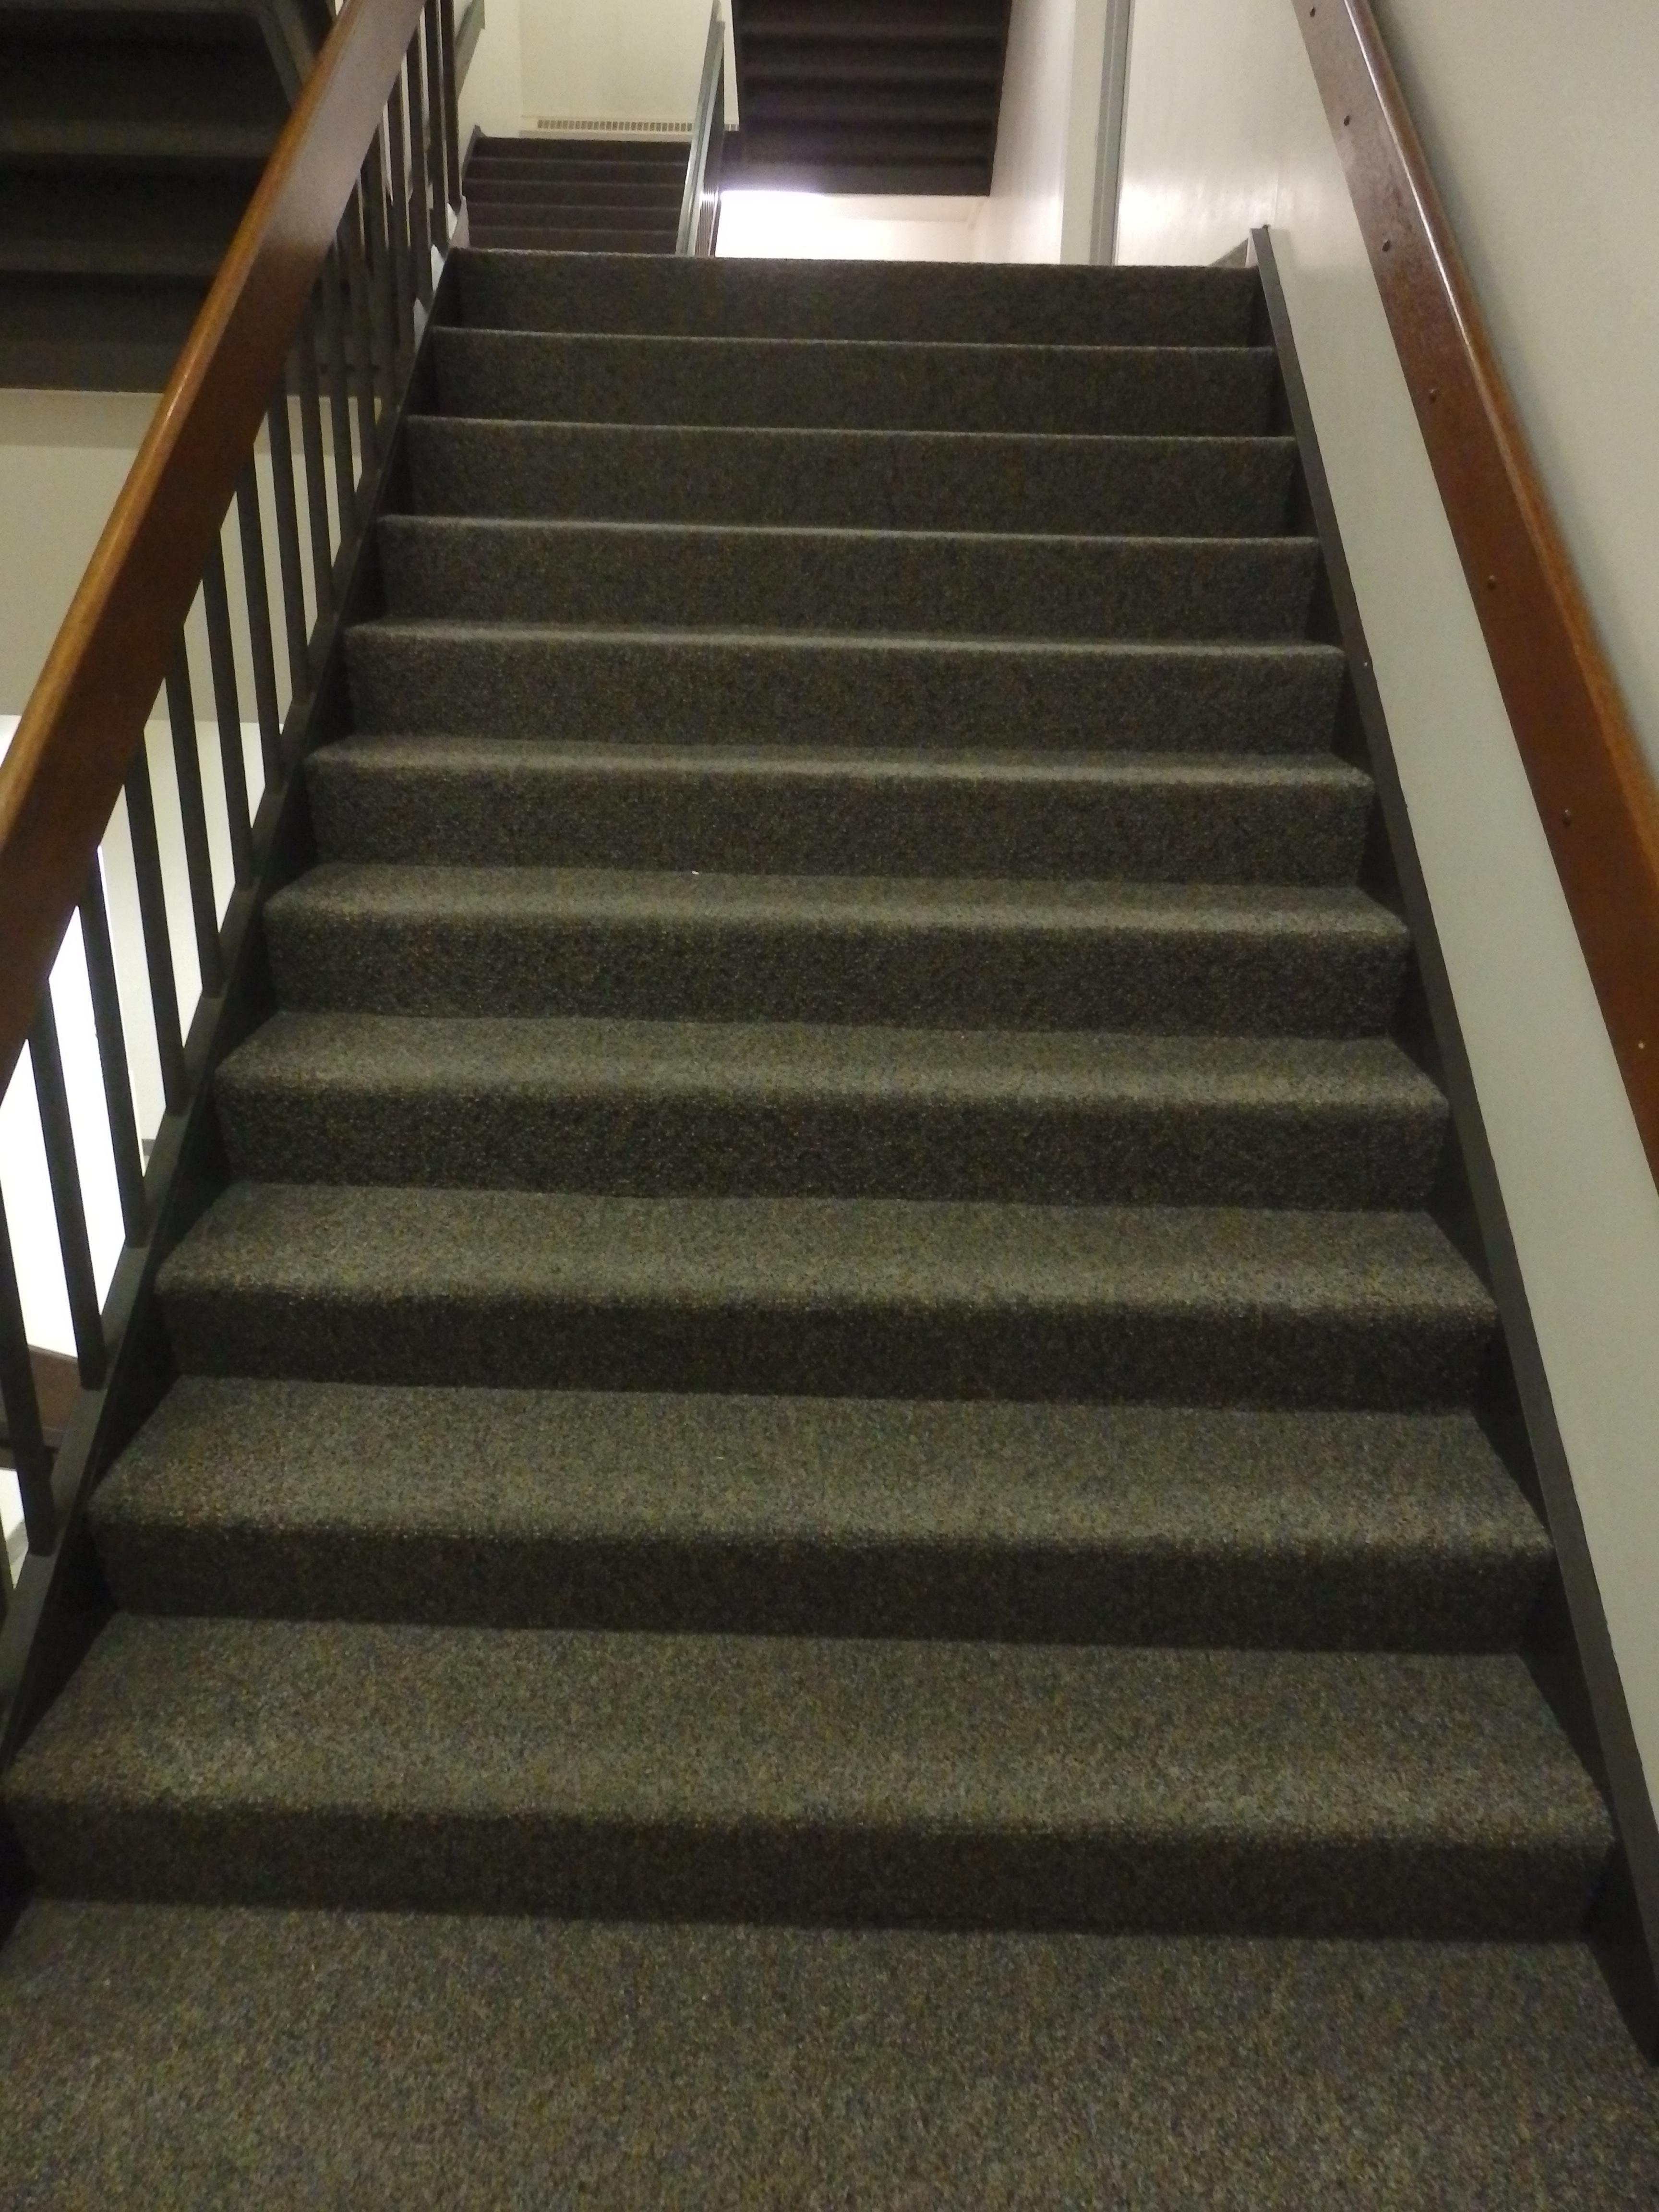stairs_up: (366, 235, 1525, 1984)
